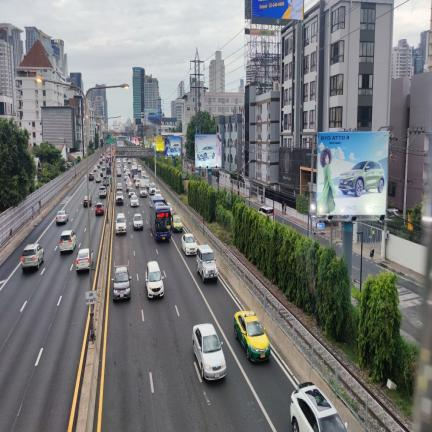bus: (150, 197, 171, 239)
car: (290, 382, 347, 431), (193, 323, 226, 379), (197, 244, 218, 283), (111, 266, 131, 300), (145, 262, 163, 298), (21, 243, 44, 271), (59, 230, 76, 253), (77, 248, 93, 271), (182, 233, 197, 254), (116, 213, 126, 235), (56, 210, 68, 224), (172, 214, 182, 230), (133, 214, 143, 229), (130, 194, 139, 206), (95, 203, 104, 215), (116, 191, 123, 205), (127, 186, 135, 198), (83, 196, 92, 206), (99, 186, 107, 197), (149, 182, 156, 194), (154, 189, 161, 196), (168, 206, 174, 214), (167, 203, 170, 205)
human: (370, 239, 375, 259), (282, 201, 285, 214), (284, 202, 286, 214)
taxi: (234, 310, 270, 361)
truck: (140, 179, 146, 196)
van: (258, 205, 274, 216), (258, 206, 274, 216)
